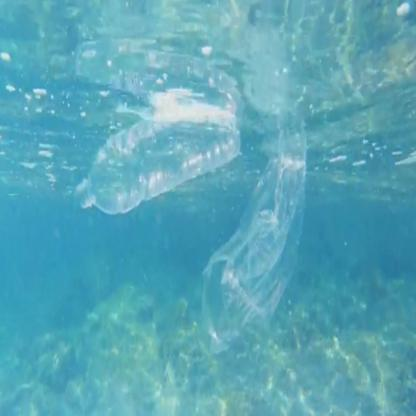Rác: (59, 102, 249, 216), (211, 158, 333, 322)
